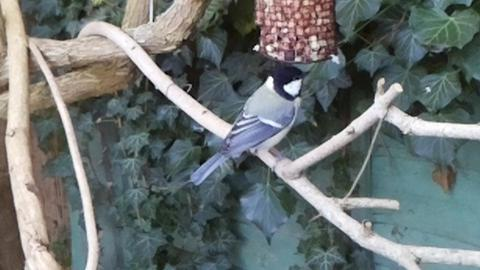great tit: (189, 64, 312, 186)
